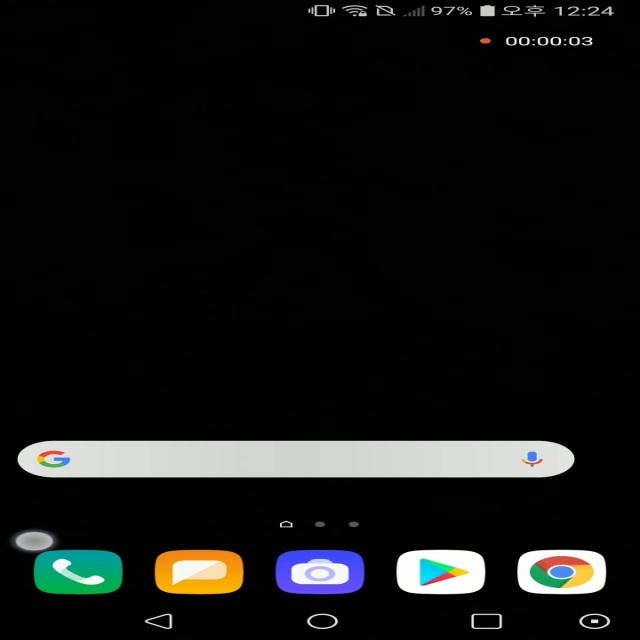Cursor: (14, 531, 58, 553)
